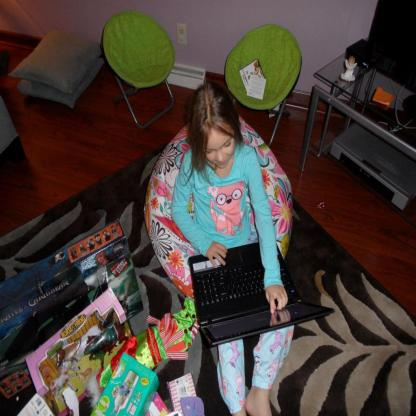board: (178, 230, 320, 349)
